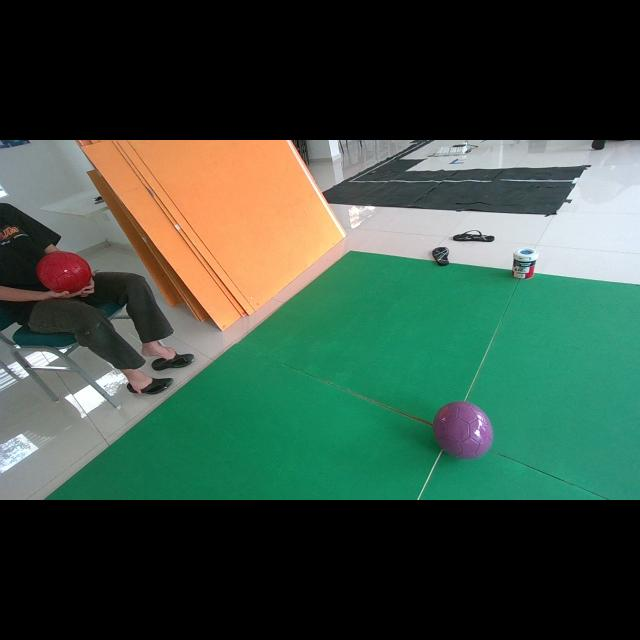P: (432, 401, 492, 458)
R: (36, 251, 91, 292)
